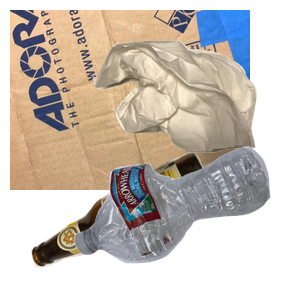cardboard: (10, 10, 250, 190)
glass: (29, 150, 238, 300)
plastic: (72, 144, 300, 300)
trash: (90, 38, 300, 183)
